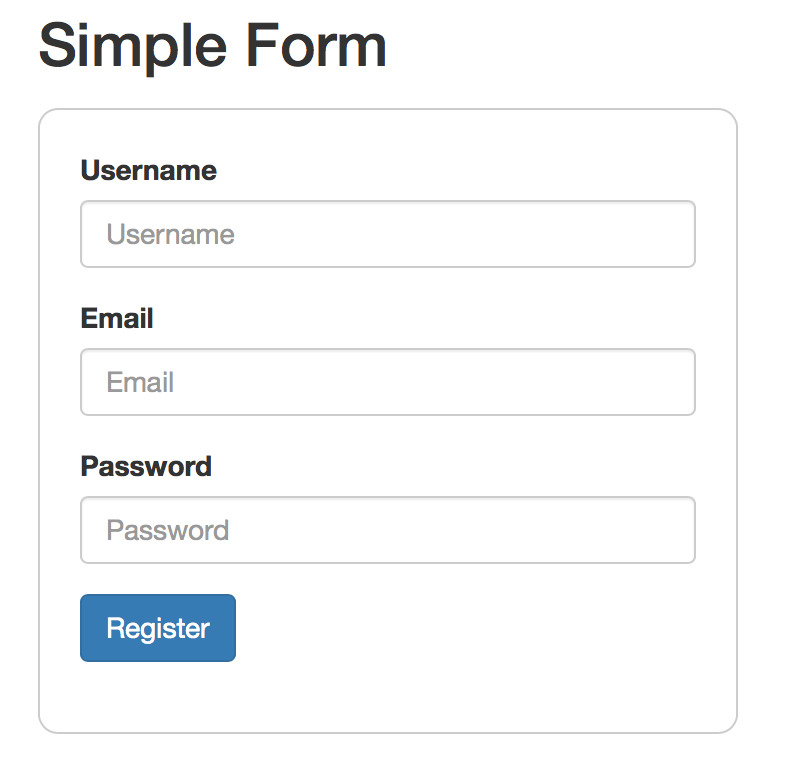_form_: (37, 129, 708, 673)
button: (78, 592, 237, 664)
field: (77, 197, 697, 271), (77, 494, 700, 567), (76, 346, 698, 418)
field_with_label: (74, 454, 701, 569), (75, 160, 699, 273), (74, 306, 700, 418)
